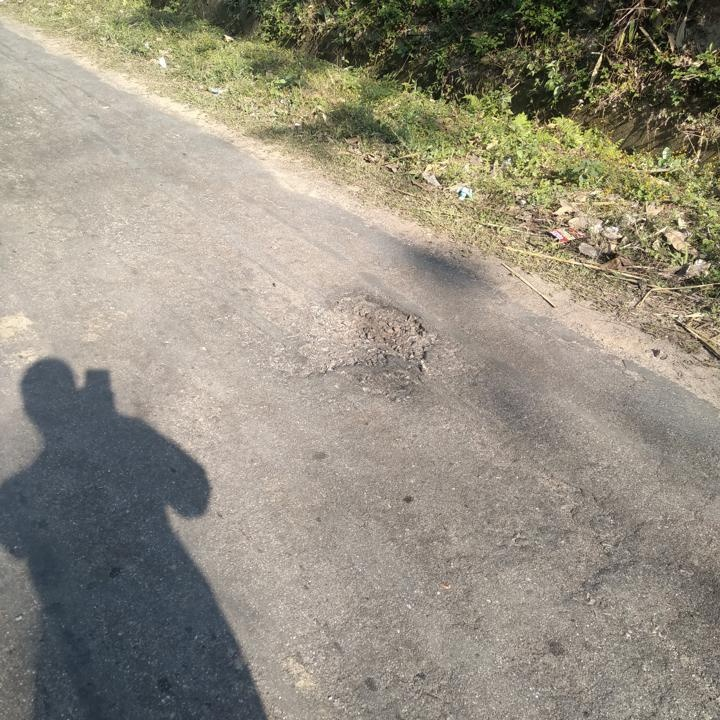pothole: (299, 287, 439, 382)
